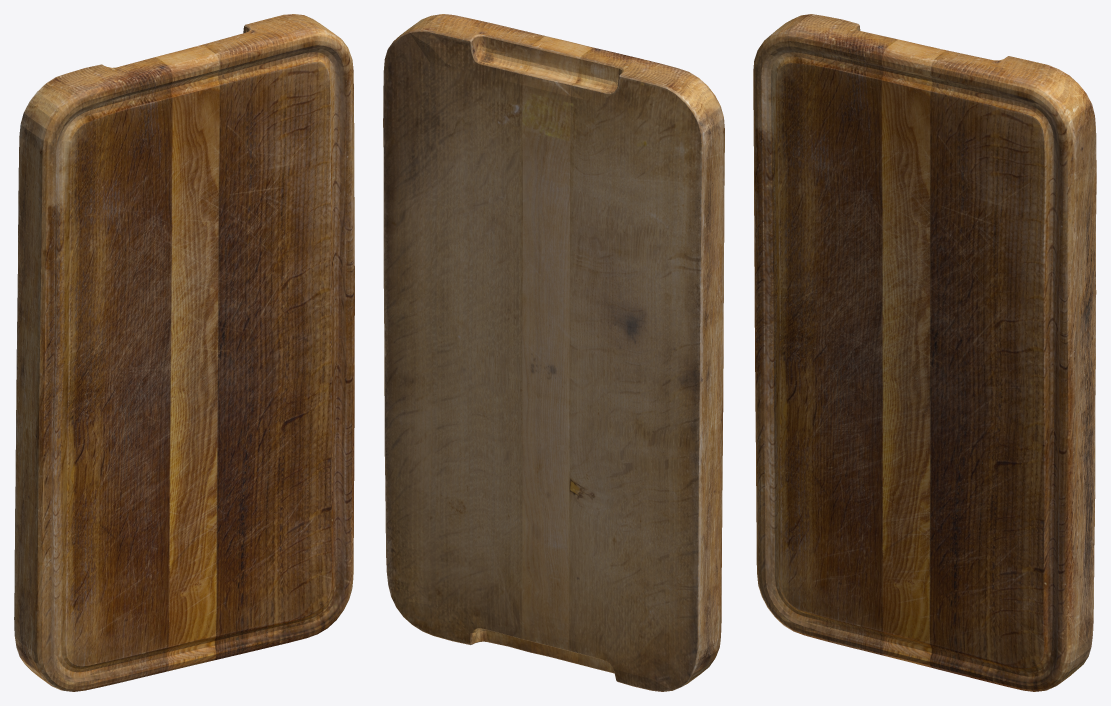
The model's file is board_vis.obj.
3 renders of one model, left to right at view 1: azimuth 30°, elevation 25°; view 2: azimuth 150°, elevation 25°; view 3: azimuth 330°, elevation 25°, orthographic.
Size of the model in its own units: 0.12 by 0.2189 by 0.0201.
Materials: 1 (1 with a texture image).
